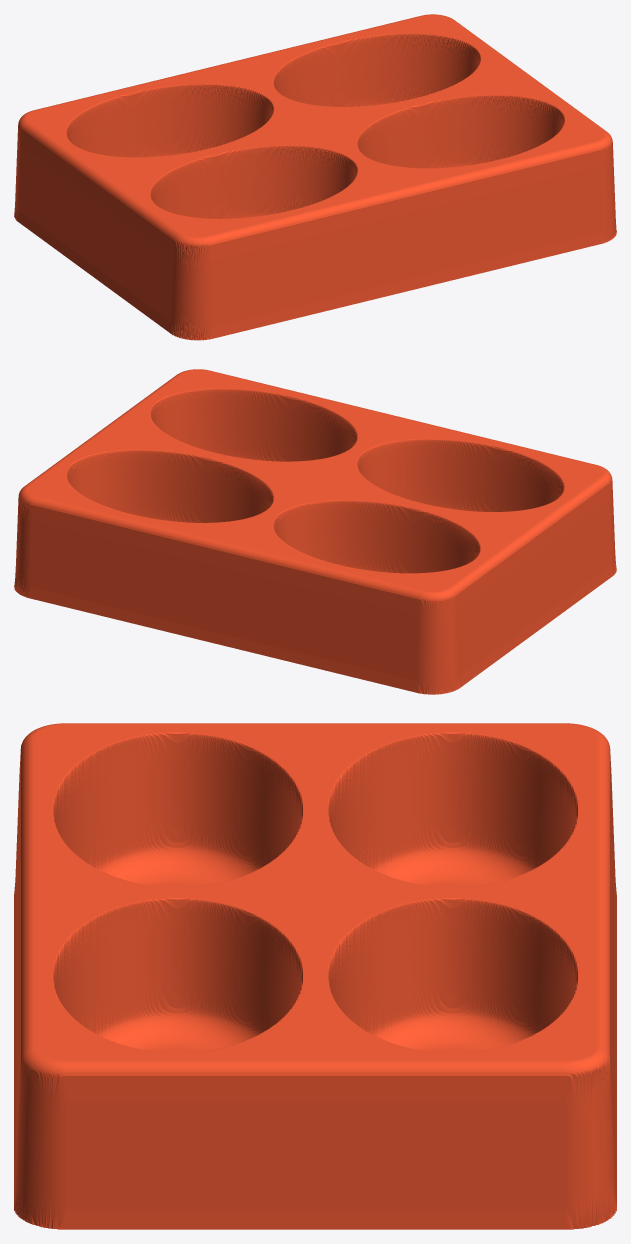
The model's file is mold.glb.
The picture shows the model from 3 angles, top to bottom: view 1: azimuth 30°, elevation 25°; view 2: azimuth 150°, elevation 25°; view 3: azimuth 270°, elevation 25°; orthographic projection. The views are drawn at different scales.
Parts seen in each view (by area): view 1: geometry_0; view 2: geometry_0; view 3: geometry_0.
Boxes of the visible parts, left/top/right/bottom form: geometry_0: left=14, top=14, right=616, bottom=340; geometry_0: left=14, top=369, right=616, bottom=694; geometry_0: left=14, top=723, right=616, bottom=1229.
Bounding box in the file's own units: 0.1466 × 0.031 × 0.1057.
